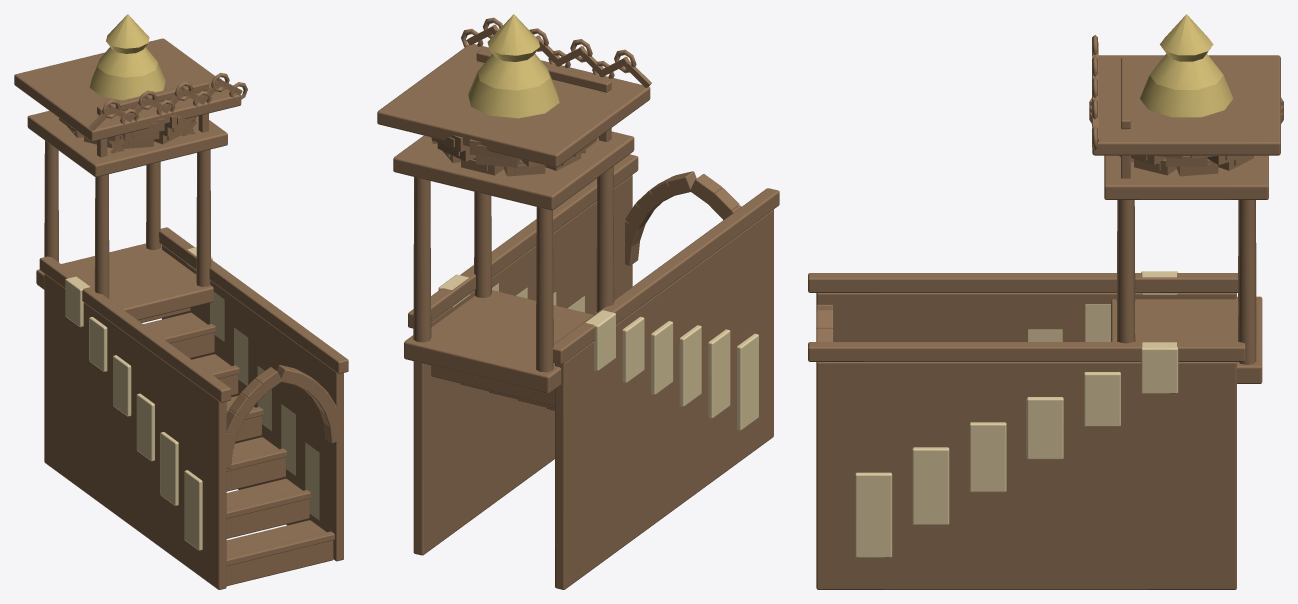
The model's file is minbar-with-canopy-7926b39a.glb.
The picture shows the model from 3 angles, left to right: view 1: azimuth 30°, elevation 25°; view 2: azimuth 150°, elevation 25°; view 3: azimuth 270°, elevation 25°; orthographic projection. The views are drawn at different scales.
Visible parts, largest first — view 1: minbar-with-canopy; view 2: minbar-with-canopy; view 3: minbar-with-canopy.
Part boxes in pixels (bbox=[...]): minbar-with-canopy: bbox=[14, 14, 348, 589]; minbar-with-canopy: bbox=[377, 14, 779, 589]; minbar-with-canopy: bbox=[808, 14, 1283, 589].
Size of the model in its own units: 1.31 by 3.54 by 2.83.
